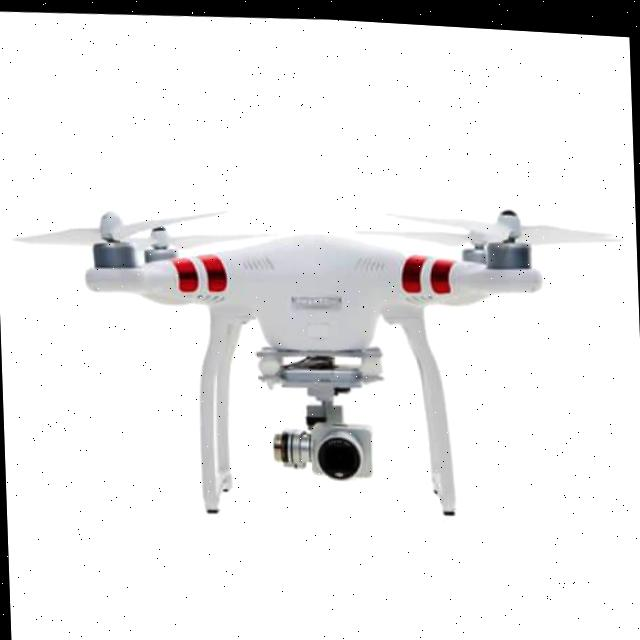drone: (1, 150, 640, 552)
